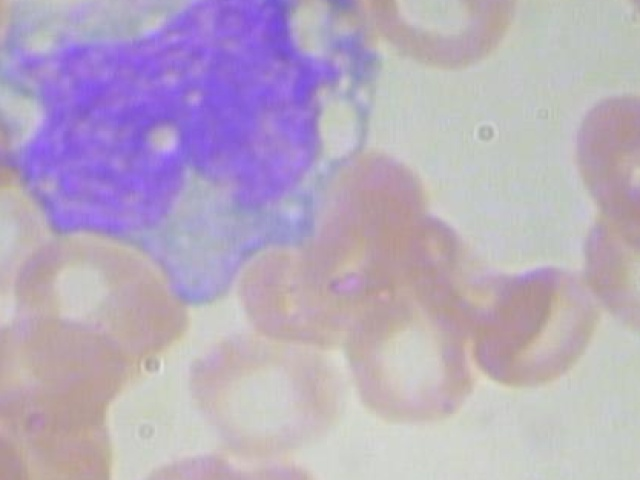RBC: (173, 319, 347, 454), (476, 256, 608, 391), (0, 314, 129, 417), (574, 190, 640, 357), (569, 88, 640, 223), (0, 412, 34, 480), (0, 0, 13, 95)
WBC: (0, 0, 372, 317)
